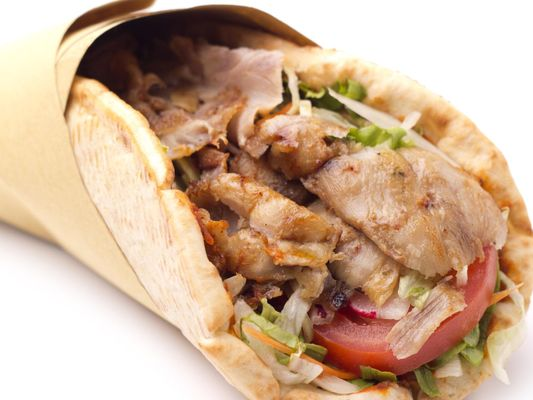soup: (43, 7, 532, 399)
